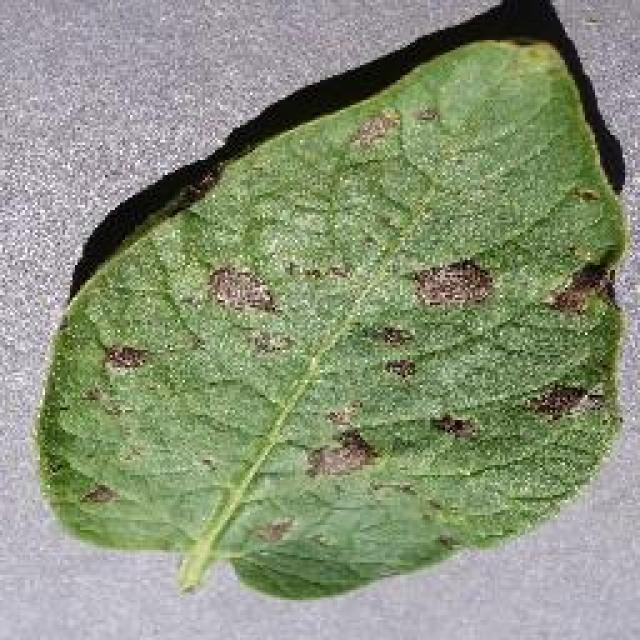early_blight: (30, 30, 630, 605)
